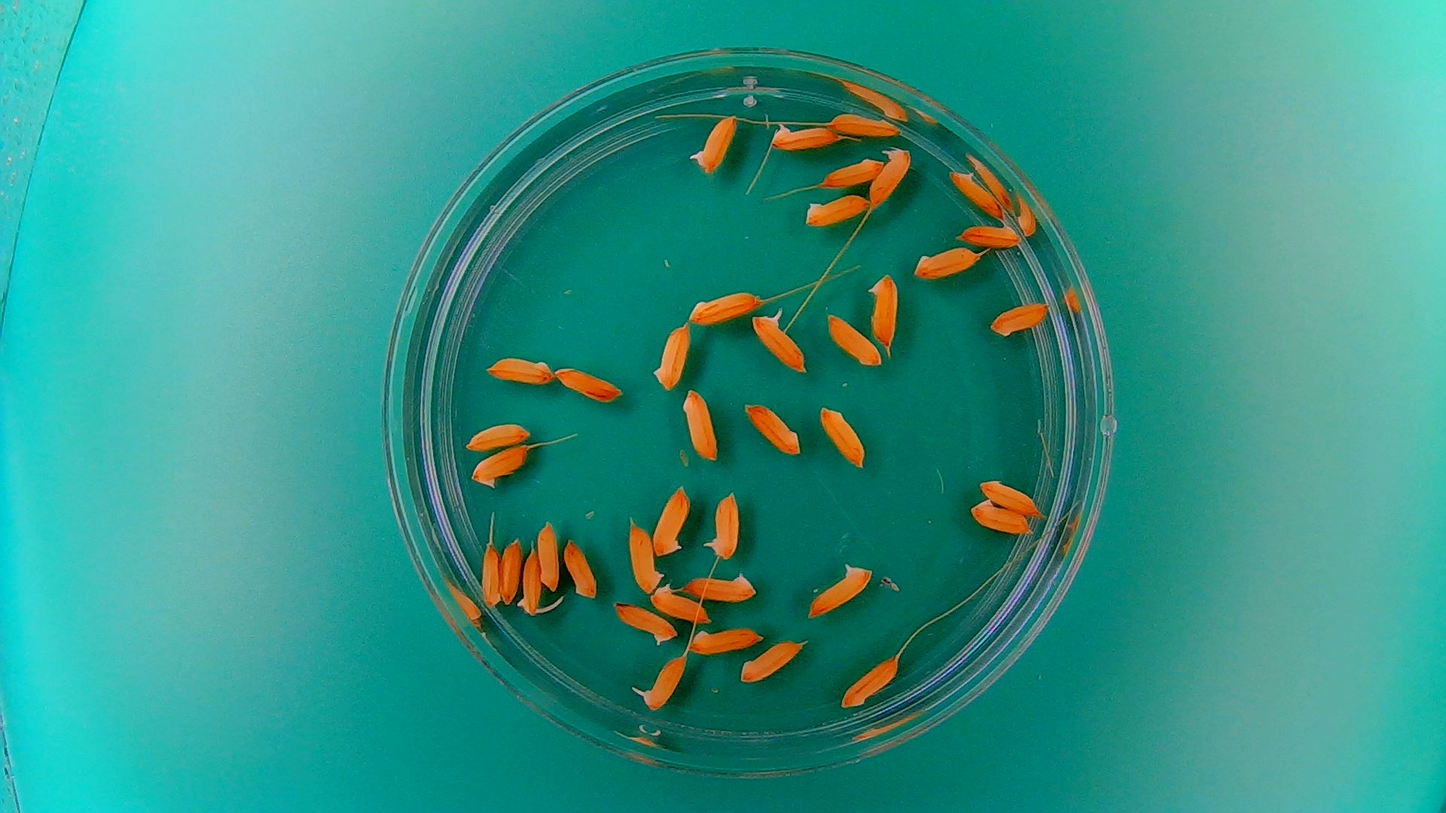no: (837, 653, 900, 709), (816, 402, 868, 469), (824, 310, 883, 369), (742, 399, 803, 456), (611, 599, 679, 647), (737, 637, 805, 684), (947, 166, 1005, 221), (625, 513, 664, 594), (650, 321, 692, 394), (685, 288, 763, 327), (681, 385, 719, 462), (468, 442, 530, 489), (803, 158, 895, 189), (679, 567, 759, 602), (865, 269, 900, 349), (552, 363, 625, 401), (686, 622, 767, 656), (976, 476, 1044, 516), (911, 243, 984, 280), (648, 582, 712, 623), (987, 298, 1049, 339), (969, 496, 1034, 535), (560, 535, 599, 600), (462, 417, 533, 452), (801, 191, 870, 227), (484, 353, 555, 387), (825, 109, 902, 139), (535, 517, 561, 592), (956, 221, 1023, 248), (498, 534, 523, 605), (477, 539, 502, 610)
yes: (804, 559, 874, 620), (749, 305, 808, 375), (688, 111, 740, 175), (633, 653, 688, 712), (649, 483, 691, 559), (702, 486, 742, 560), (868, 144, 914, 208), (768, 119, 840, 152), (516, 545, 546, 618)
